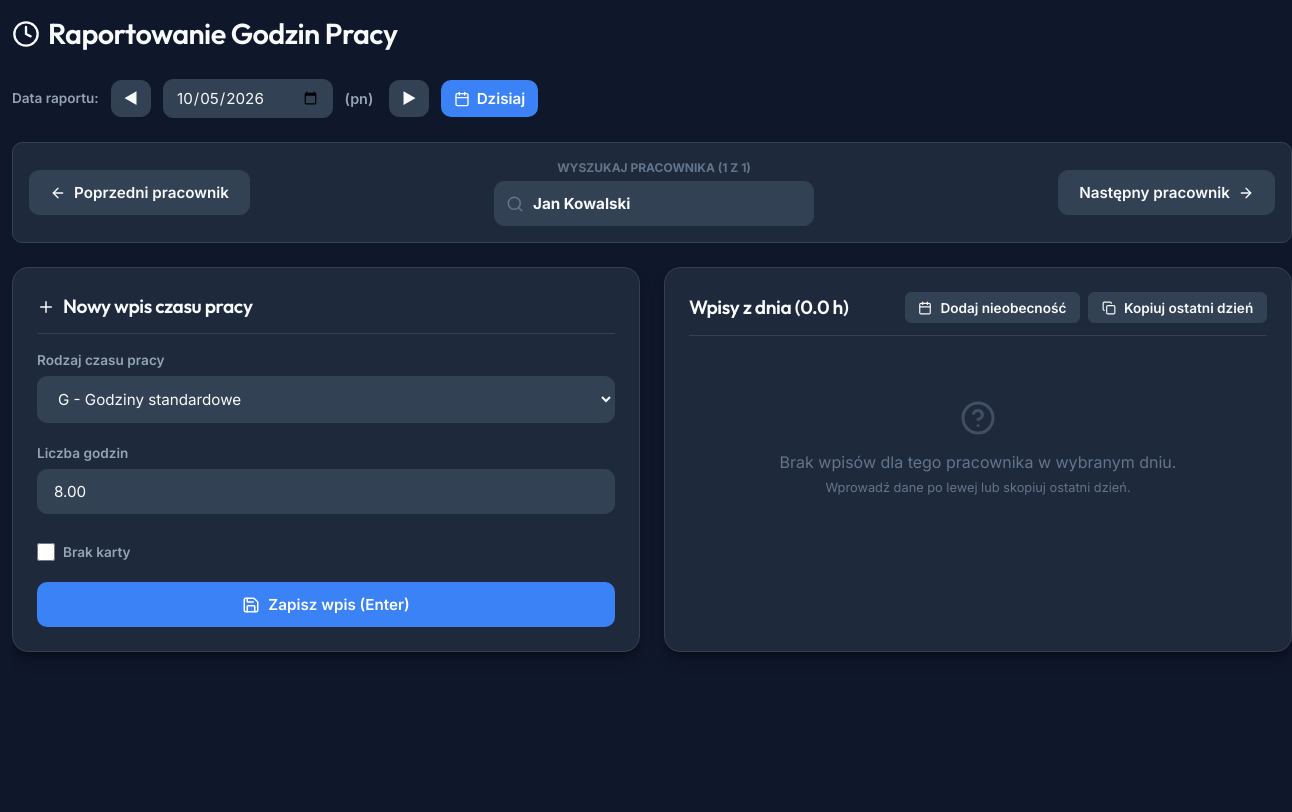
ReportingPanel — kopiowanie ostatniego dnia › wysyła identyfikator wybranego pracownika i datę oraz pokazuje wynik
The width and height of the screenshot is (1292, 812).
Expected: the field showing "Jan Kowalski" below "Wyszukaj pracownika (" is shown, 494,181 -> 814,226
Click the button "Kopiuj ostatni dzień".
click(1178, 308)  # box 1088,292 -> 1267,323
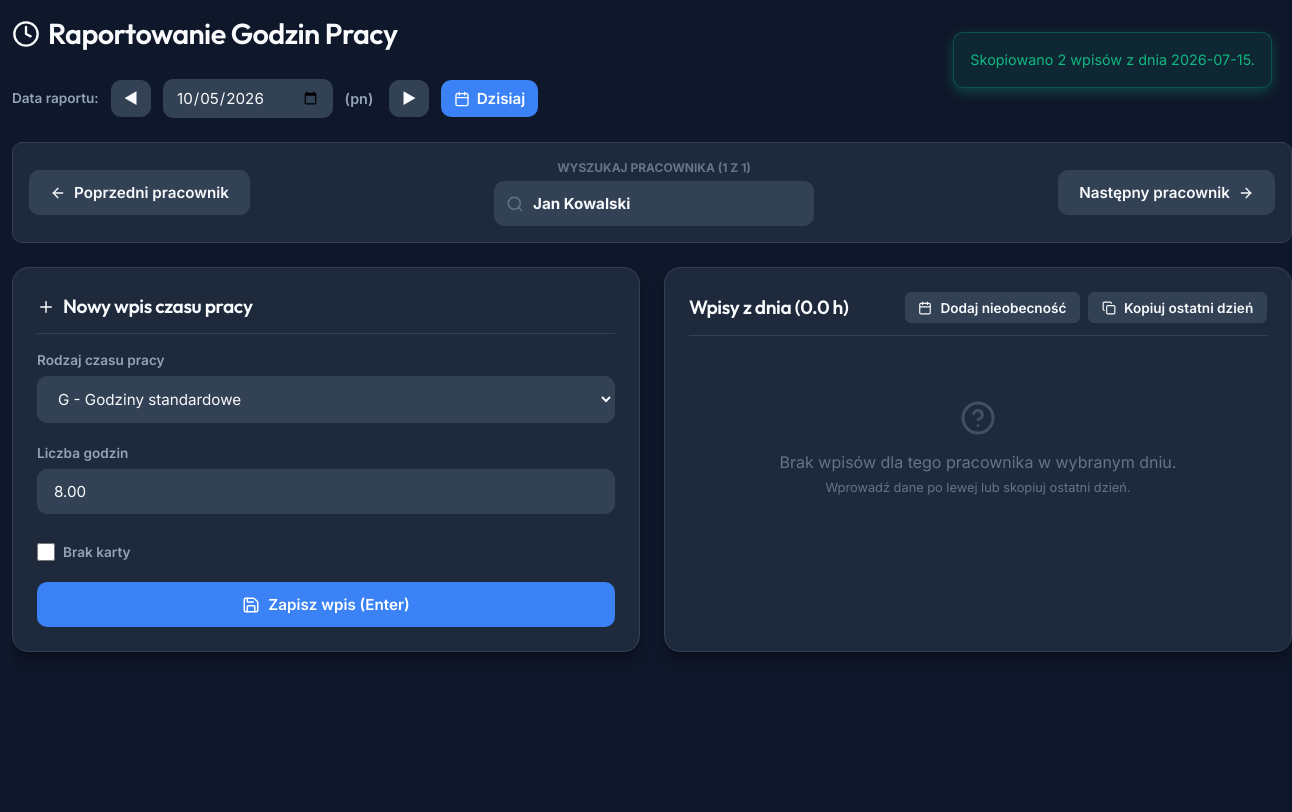
Expected: the text "Skopiowano 2 wpisów z dnia 2026-07-15." is shown, 953,32 -> 1272,88
